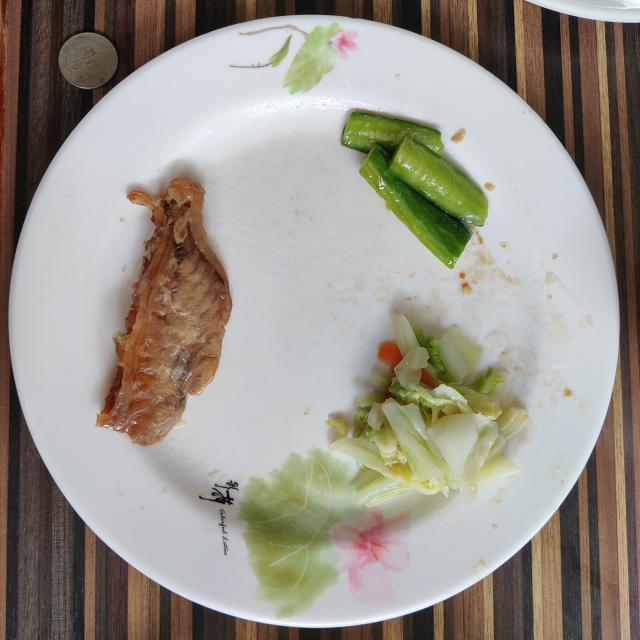Kabayaki sea bream fillet: (96, 179, 231, 445)
cabbage: (326, 315, 528, 506)
coin: (59, 32, 118, 89)
cucumber: (341, 112, 488, 268)
